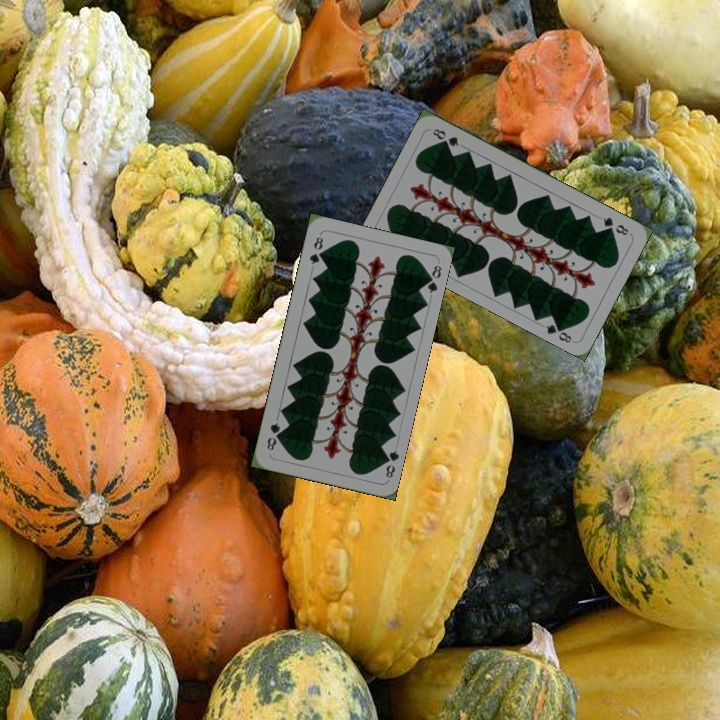G8: (599, 213, 633, 238), (378, 446, 401, 481), (305, 232, 326, 267)
